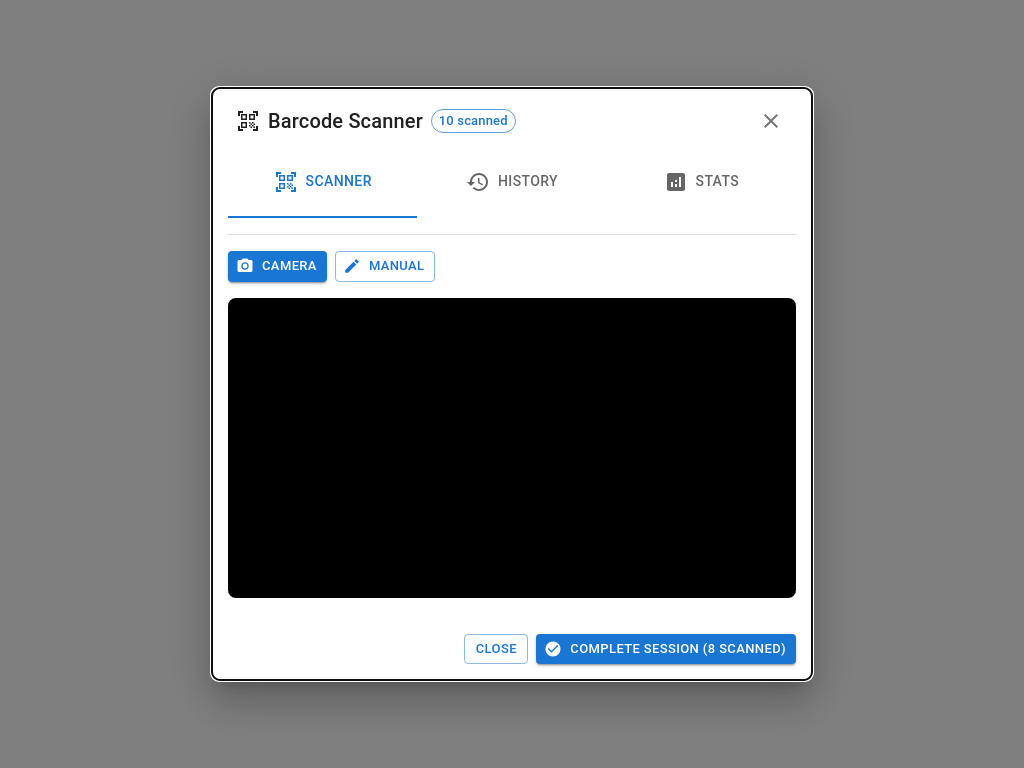
Test case: EnhancedBarcodeScanner › should show session statistics in stats tab
The width and height of the screenshot is (1024, 768).
// Click on Stats tab and wait for content to change
What coordinates should you click on to do the following:
click the tab "Stats"
I would click on:
 (701, 182)
Its box is [607,146,796,218].
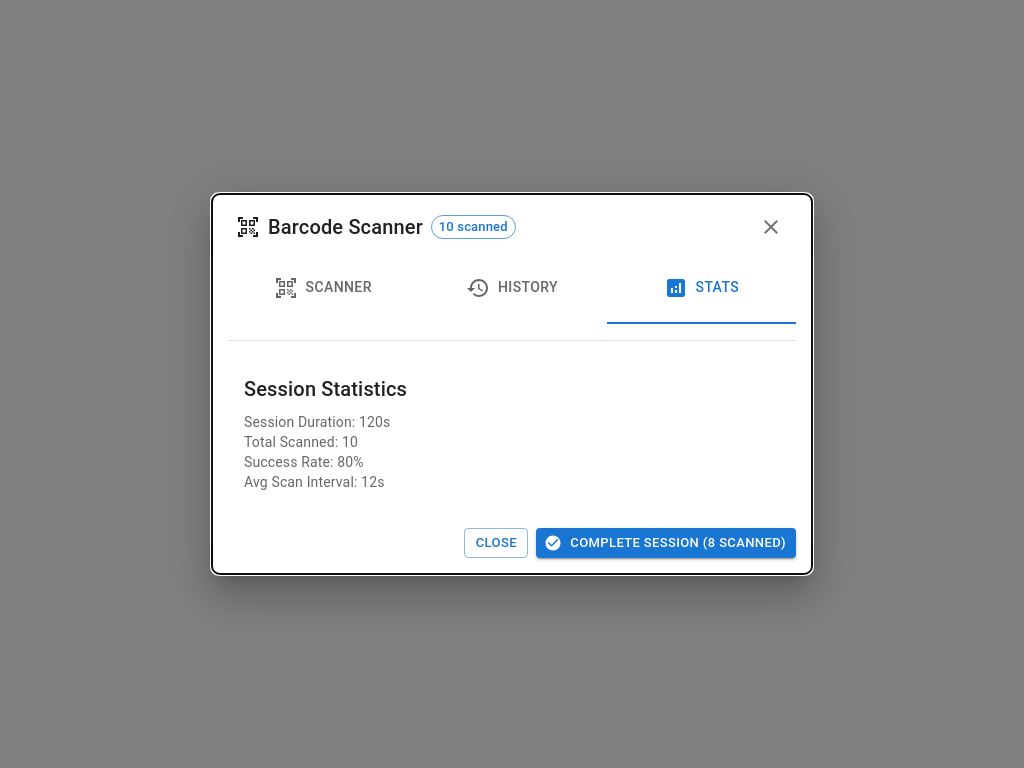
Check: the heading "Session Statistics" is shown, box [244,377,407,401]
Check: the text "Session Duration: 120s" is shown, box [244,414,390,430]
Check: the text "Total Scanned: 10" is shown, box [244,434,358,450]
